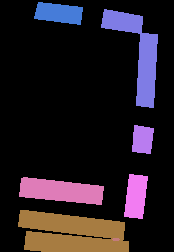parkingspot: (18, 210, 124, 239), (19, 177, 103, 204), (24, 231, 128, 252), (136, 33, 157, 107), (34, 2, 82, 24), (124, 174, 147, 218), (101, 9, 142, 33), (132, 125, 153, 153)
